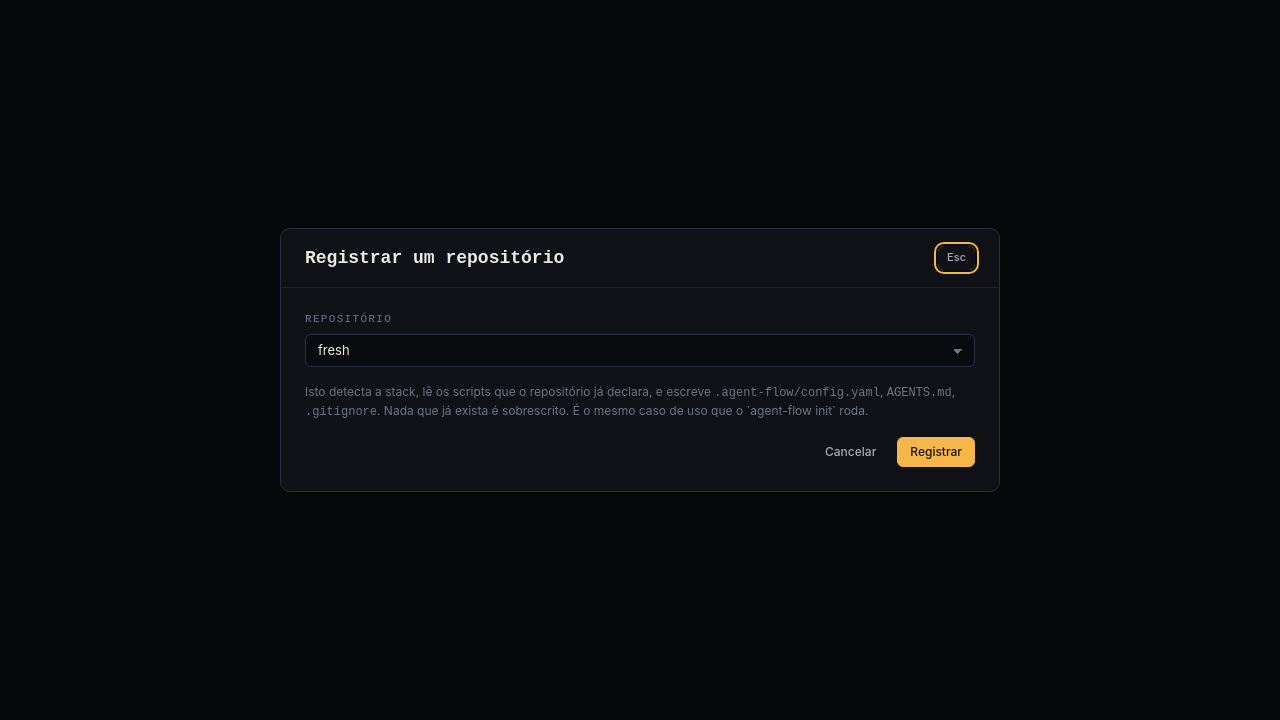
the register-project dialog › offers the override only once the server has refused, and explains it
Expected: the text "seguir mesmo assim, e registrar o override na run" is not shown
Click the button "Registrar": (936, 452) [897,437,975,467]
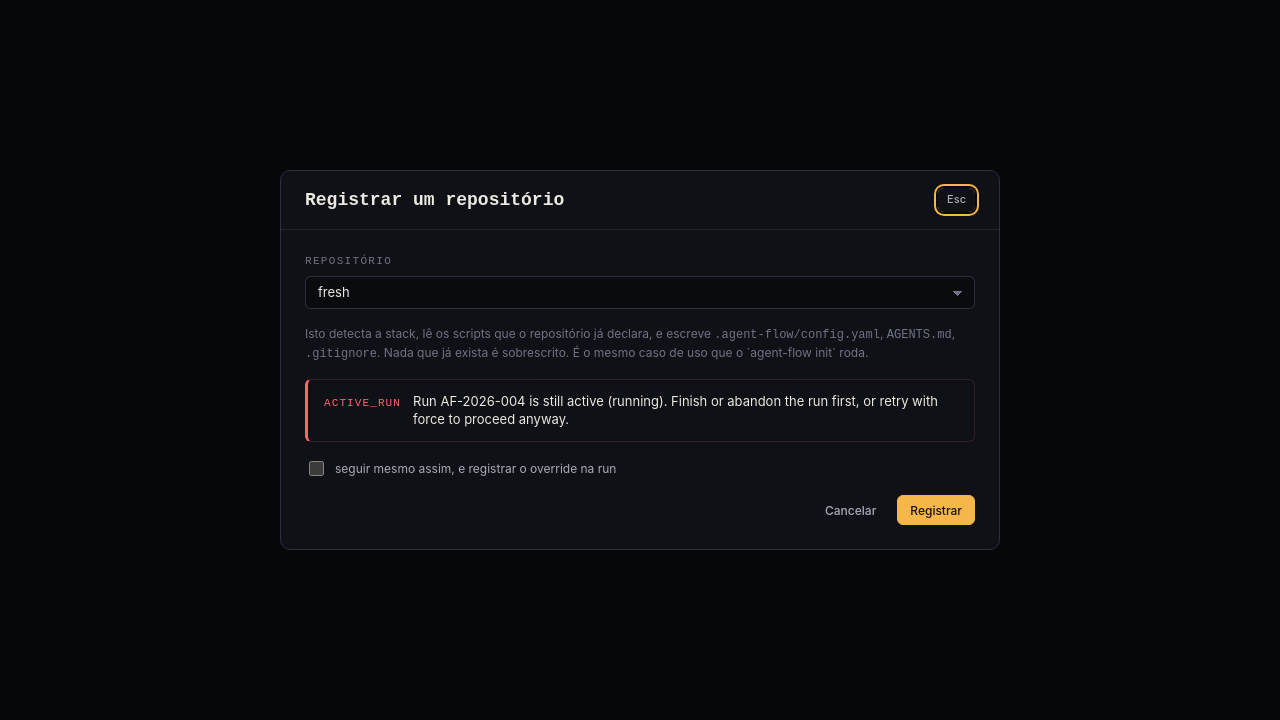
Result: the text "Run AF-2026-004 is still active" is shown at [413,393,667,409]
Result: the text "seguir mesmo assim, e registrar o override na run" is shown at [335,460,616,478]
